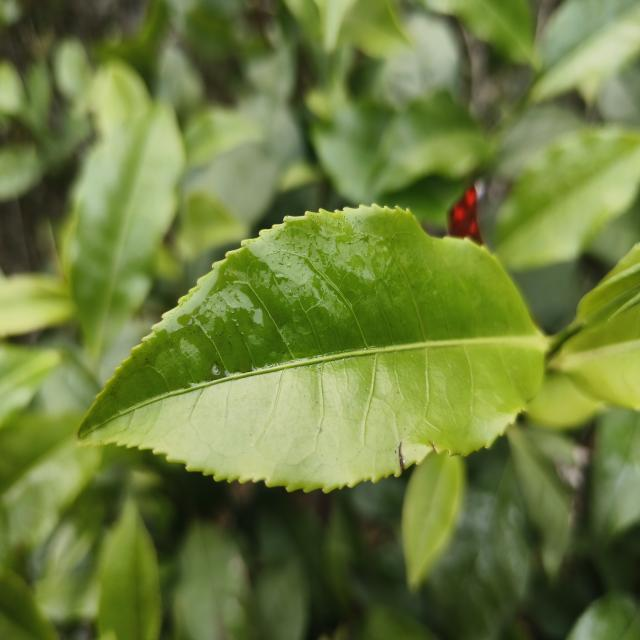Leaf: (79, 206, 546, 490), (64, 105, 184, 360), (426, 444, 532, 640), (496, 126, 640, 270), (0, 413, 101, 547), (375, 93, 491, 191), (532, 0, 640, 102), (173, 521, 253, 640), (551, 305, 640, 410), (98, 500, 162, 640), (402, 453, 464, 590), (425, 0, 535, 65), (591, 410, 640, 540), (0, 344, 61, 427), (0, 273, 75, 337), (177, 192, 248, 259), (184, 107, 262, 167), (90, 61, 150, 136), (567, 593, 640, 640)
